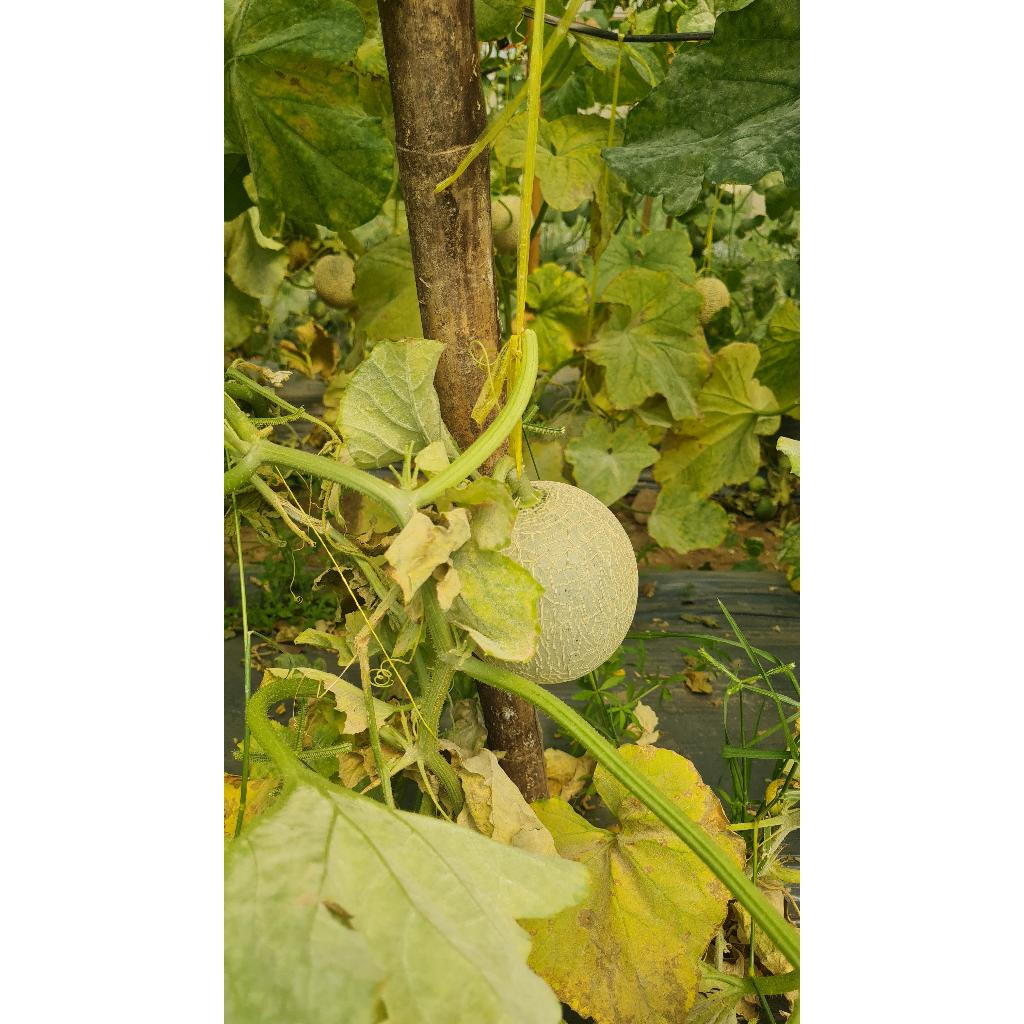melon: (490, 480, 638, 684)
